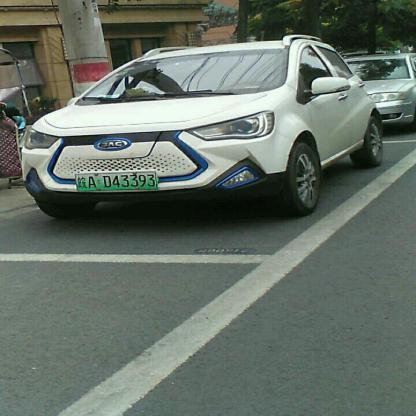lp: (74, 170, 158, 192)
